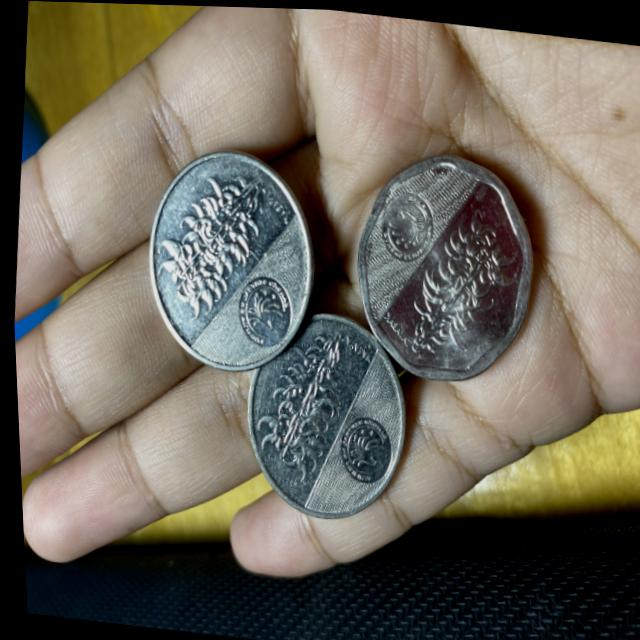5_New_Back: (142, 156, 267, 327), (401, 204, 510, 356), (262, 313, 349, 500)
